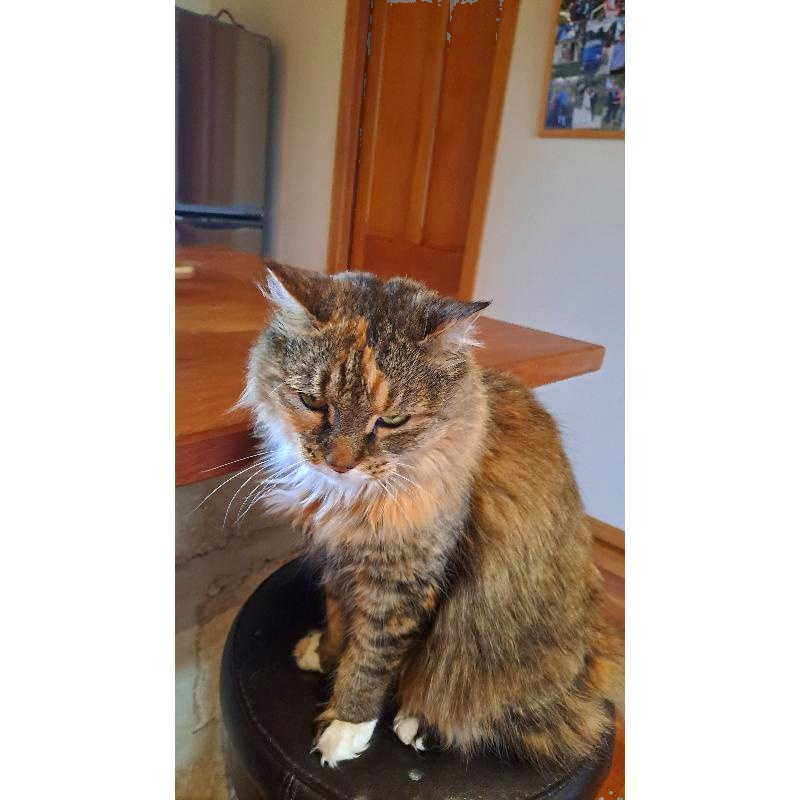yellow: (220, 263, 615, 773)
